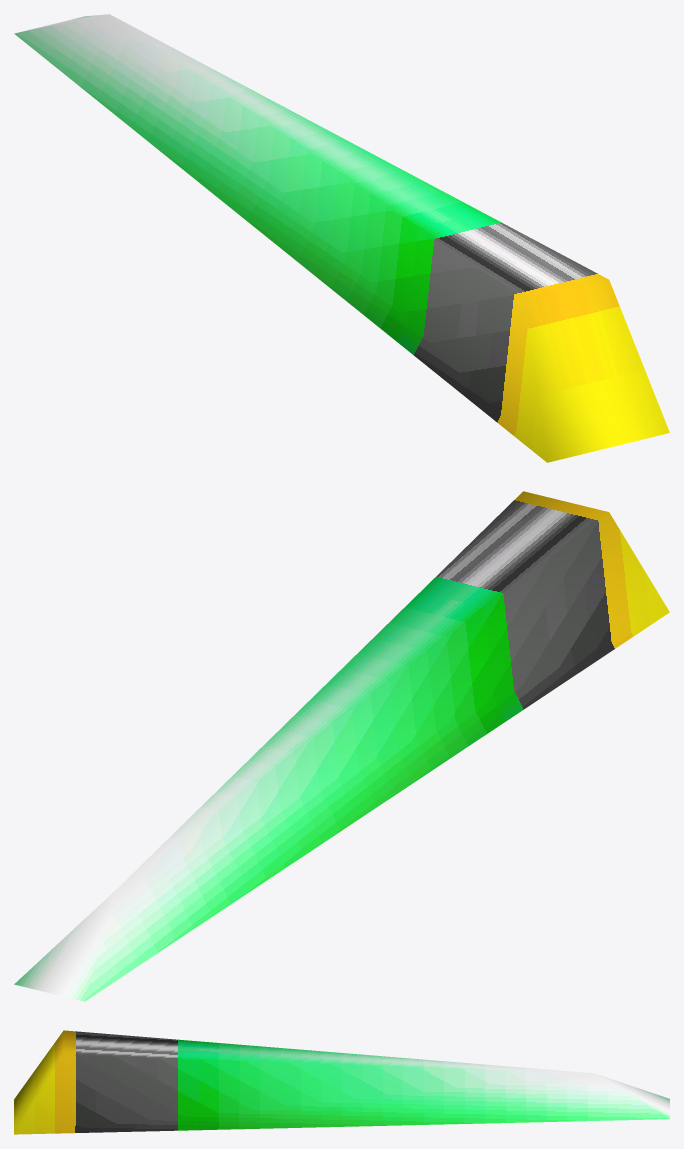
Rendered from PhaseChargeY_Anim.glb.
3 views of the same model, one above another, from view 1: azimuth 30°, elevation 25°; view 2: azimuth 150°, elevation 25°; view 3: azimuth 270°, elevation 25° (orthographic). The views are drawn at different scales.
Parts seen in each view (by area): view 1: PhaseChargeY_Anim; view 2: PhaseChargeY_Anim; view 3: PhaseChargeY_Anim.
Boxes of the visible parts, box(x1,y1,x2,y2) form: PhaseChargeY_Anim: box(14, 14, 669, 462); PhaseChargeY_Anim: box(14, 491, 669, 1001); PhaseChargeY_Anim: box(14, 1030, 669, 1134).
Size of the model in its own units: 1.89 by 1.87 by 14.93.
1 material, 1 textured.
